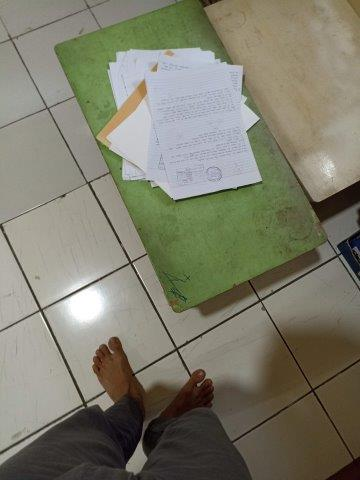kertas: (96, 47, 262, 200)
